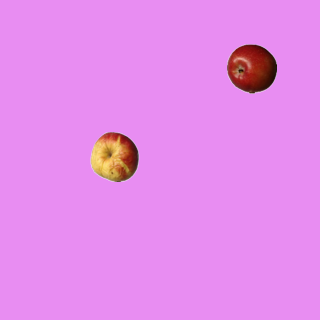Apple Braeburn: (226, 43, 276, 93)
Apple Red Yellow 1: (89, 131, 139, 181)
